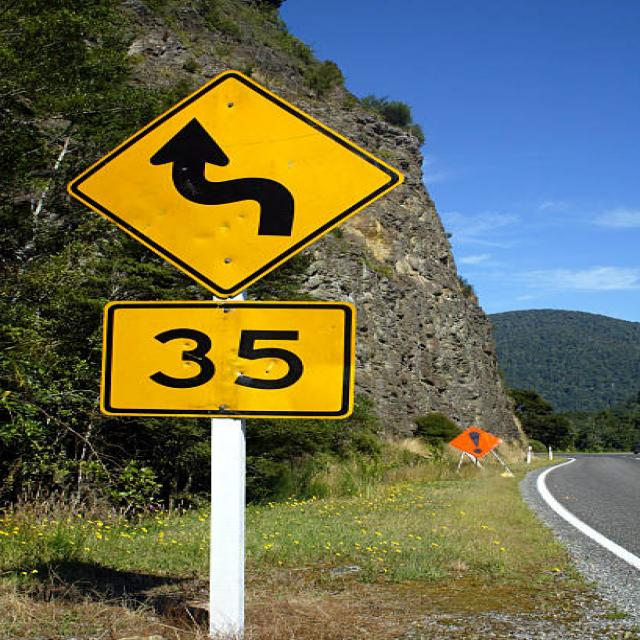left_sharp_curve: (61, 60, 418, 296)
